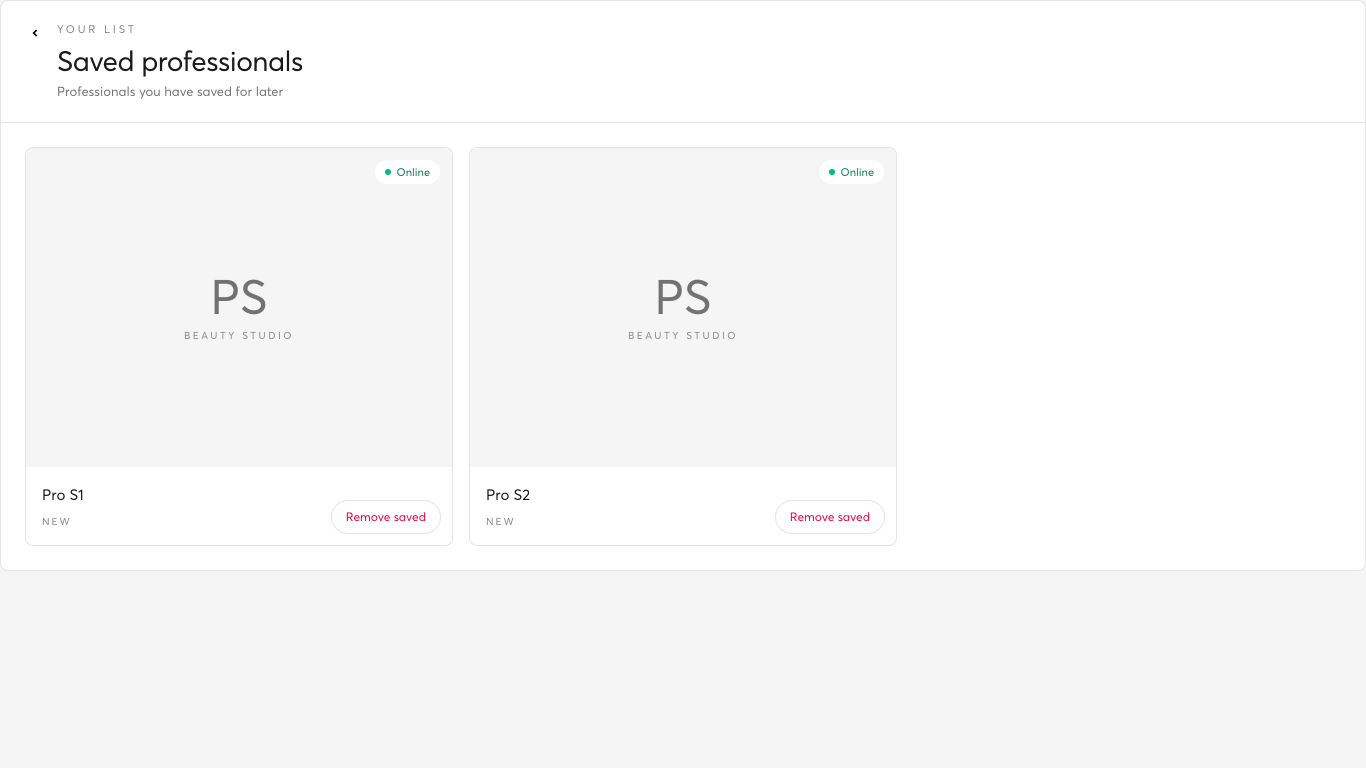
Test: SavedStylist panel › lists saved professionals with a working remove flow
The width and height of the screenshot is (1366, 768).
Expected: the text "Pro S1" is shown, [42,485,84,503]
Expected: the text "Pro S2" is shown, [486,485,530,503]
Click the button "Remove saved" in the row of "Pro S1" at {"x": 386, "y": 517}, box [331,500,441,534]
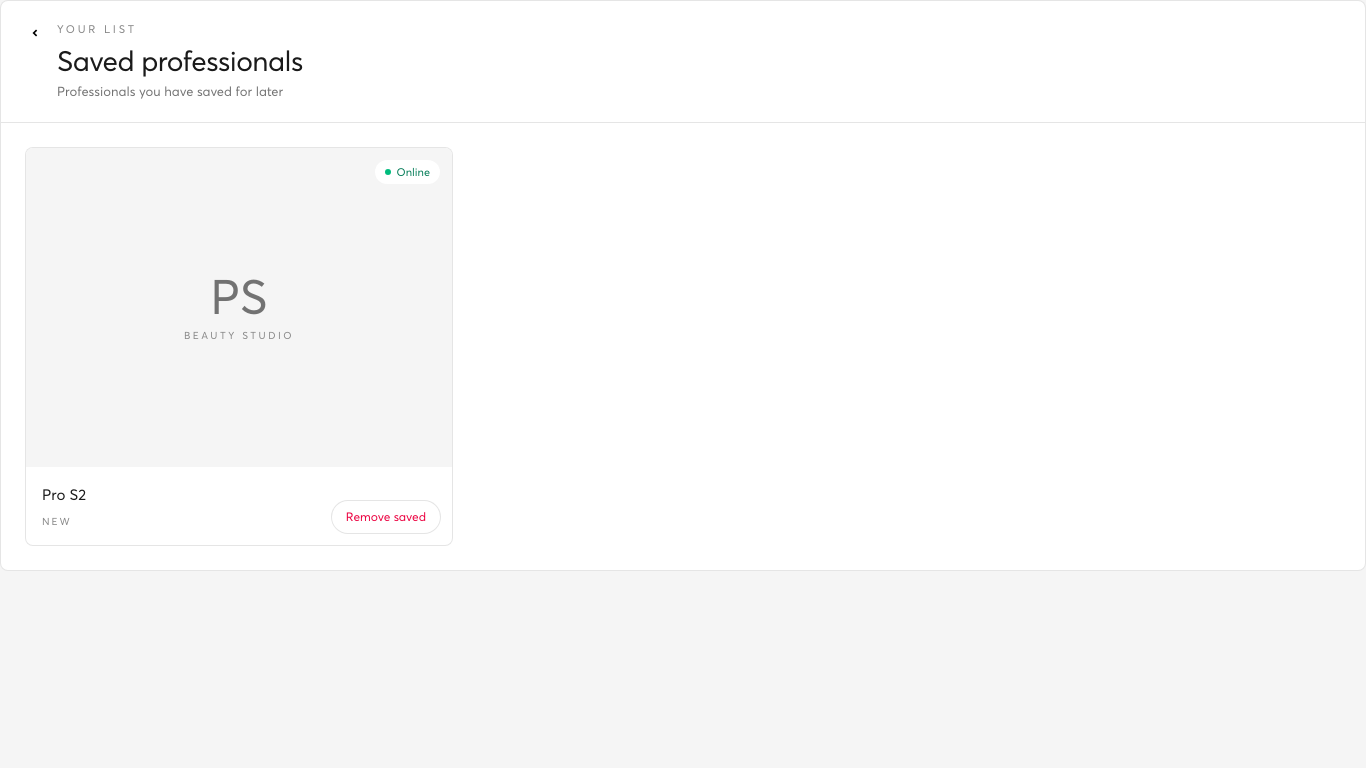
Expected: the text "Pro S2" is shown, [42,485,86,503]
Now the link "Pro S1" is gone
